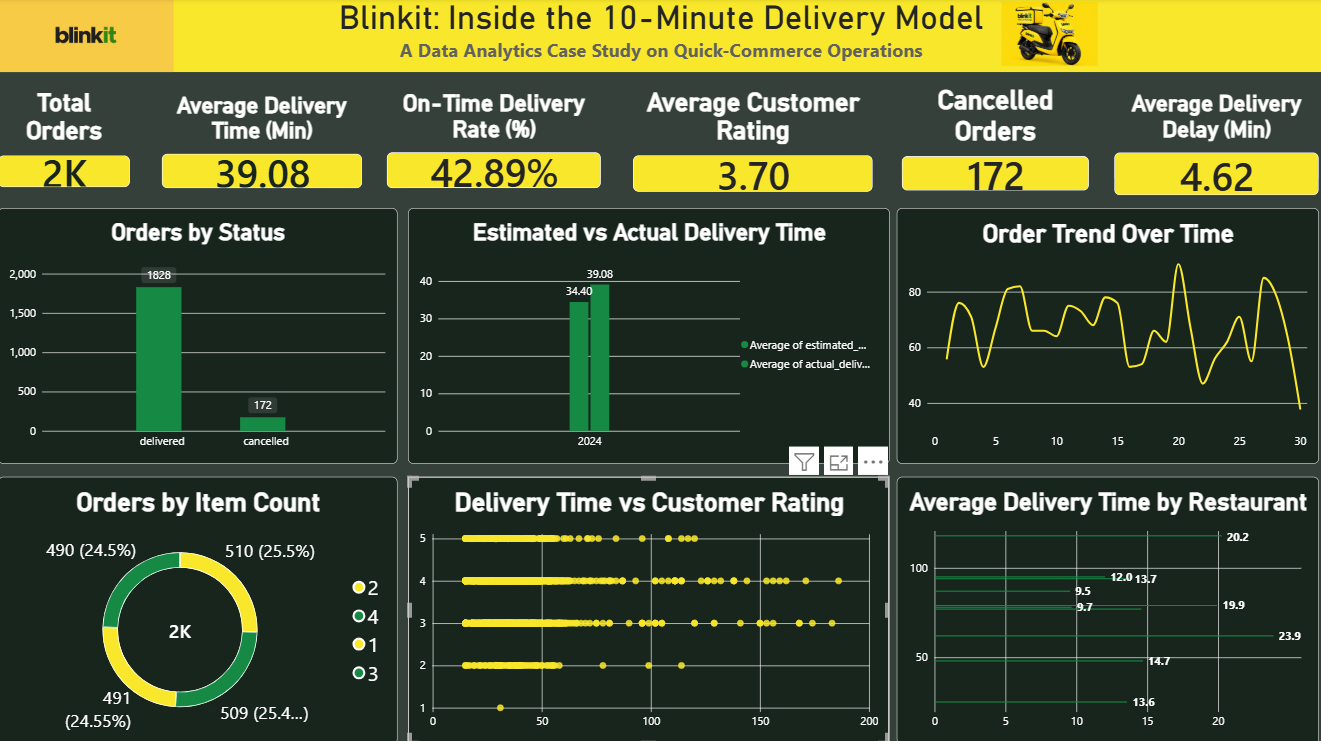

The page's visual inventory and layout, read from the dashboard file:
{"tool":"powerbi","page":{"name":"Blinkit Dashboard","canvas":[1920,1080],"ordinal":0},"visuals":[{"type":"cardVisual","title":"Total Orders","fields":{"Data":["CountNonNull(orders.id)"]},"box":[0,129.7,191.4,144.1],"z":0},{"type":"cardVisual","title":"Average Delivery Time (Min)","fields":{"Data":["Avg(orders.actual_delivery_min)"]},"box":[236.7,135.8,290.2,140],"z":1000},{"type":"cardVisual","title":"On-Time Delivery Rate (%)","fields":{"Data":["orders.On-Time Delivery %"]},"box":[561.9,131.7,310.8,144.1],"z":2000},{"type":"cardVisual","title":"Average Customer Rating","fields":{"Data":["Avg(orders.rating)"]},"box":[920.1,127.6,347.9,152.3],"z":3000},{"type":"cardVisual","title":"Cancelled Orders","fields":{"Data":["CountNonNull(orders.id)"]},"box":[1309.1,125.6,271.7,154.4],"z":4000},{"type":"cardVisual","title":"Average Delivery Delay (Min)","fields":{"Data":["orders.Average Delivery Delay"]},"box":[1615.8,133.8,296.4,152.3],"z":5000},{"type":"clusteredColumnChart","title":"Orders by Status","fields":{"Category":["orders.status"],"Y":["CountNonNull(orders.id)"]},"box":[0,304.6,578.4,370.5],"z":6000},{"type":"clusteredColumnChart","title":"Estimated vs Actual Delivery Time","fields":{"Category":["orders.order_timestamp.Variation.Date Hierarchy.Year","orders.order_timestamp.Variation.Date Hierarchy.Quarter","orders.order_timestamp.Variation.Date Hierarchy.Month","orders.order_timestamp.Variation.Date Hierarchy.Day"],"Y":["Avg(orders.estimated_delivery_min)","Avg(orders.actual_delivery_min)"]},"box":[592.8,304.6,697.8,370.5],"z":7000},{"type":"donutChart","title":"Orders by Item Count","fields":{"Category":["orders.item_count"],"Y":["CountNonNull(orders.id)"]},"box":[0,693.1,578.4,387],"z":8000},{"type":"scatterChart","title":"Delivery Time vs Customer Rating","fields":{"Category":["orders.id"],"X":["Avg(orders.actual_delivery_min)"],"Y":["Avg(orders.rating)"]},"box":[592.8,693.7,697.8,387],"z":9000},{"type":"lineChart","title":"Order Trend Over Time","fields":{"Category":["orders.order_timestamp.Variation.Date Hierarchy.Year","orders.order_timestamp.Variation.Date Hierarchy.Quarter","orders.order_timestamp.Variation.Date Hierarchy.Month","orders.order_timestamp.Variation.Date Hierarchy.Day"],"Y":["CountNonNull(orders.id)"]},"box":[1300.9,304.6,611.3,370.5],"z":10000},{"type":"clusteredBarChart","title":"Average Delivery Time by Restaurant","fields":{"Category":["orders.restaurant_id"],"Y":["orders.Average Delivery Delay"]},"box":[1300.9,693.7,611.3,387],"z":11000},{"type":"textbox","title":"Blinkit: Inside the 10-Minute Delivery Model","box":[0,0,1920.4,107],"z":12000},{"type":"image","box":[0,0,255.2,107],"z":12001},{"type":"image","box":[1436.7,6.2,170.8,92.6],"z":12004}]}

Visuals, with their boxes in screenshot pixels (x1, y1, x2, y2), scaled from the page's 1920x1080 canvas onto the 1321x741 screenshot:
"Total Orders" cardVisual: [0, 89, 132, 188]
"Average Delivery Time (Min)" cardVisual: [163, 93, 363, 189]
"On-Time Delivery Rate (%)" cardVisual: [387, 90, 600, 189]
"Average Customer Rating" cardVisual: [633, 88, 872, 192]
"Cancelled Orders" cardVisual: [901, 86, 1088, 192]
"Average Delivery Delay (Min)" cardVisual: [1112, 92, 1316, 196]
"Orders by Status" clusteredColumnChart: [0, 209, 398, 463]
"Estimated vs Actual Delivery Time" clusteredColumnChart: [408, 209, 888, 463]
"Orders by Item Count" donutChart: [0, 476, 398, 740]
"Delivery Time vs Customer Rating" scatterChart: [408, 476, 888, 740]
"Order Trend Over Time" lineChart: [895, 209, 1316, 463]
"Average Delivery Time by Restaurant" clusteredBarChart: [895, 476, 1316, 740]
"Blinkit: Inside the 10-Minute Delivery Model" textbox: [0, 0, 1320, 73]
image: [0, 0, 176, 73]
image: [988, 4, 1106, 68]
